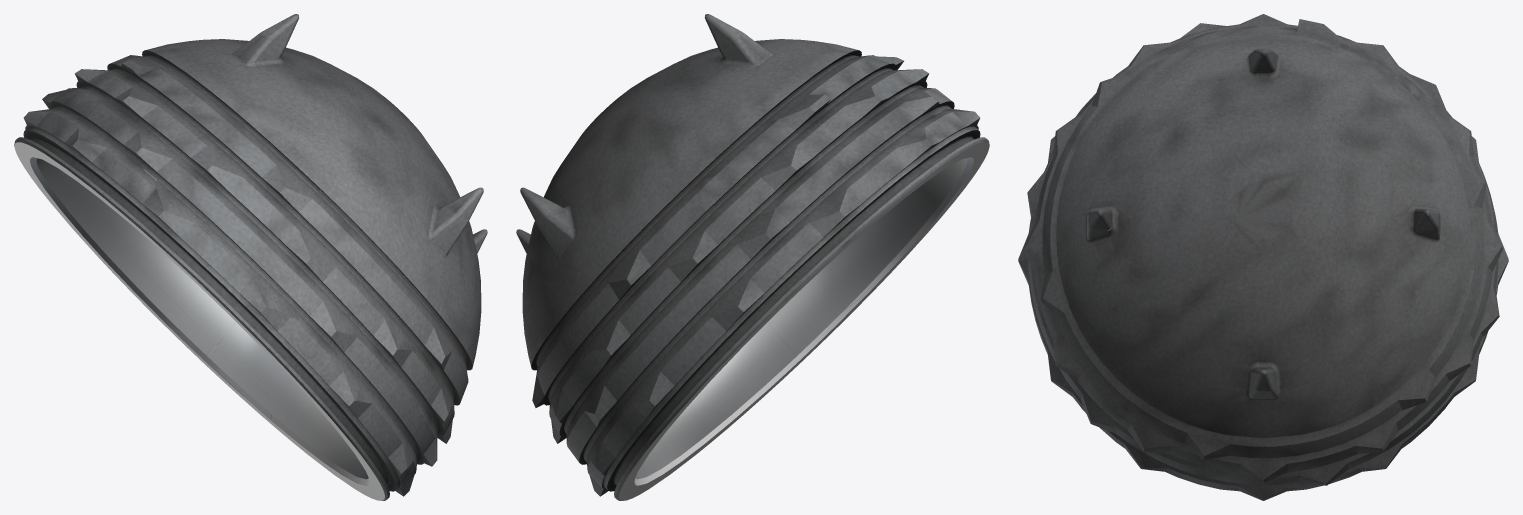
The model's file is Signature-Duo-Cup-1.glb.
3 renders of one model, left to right at view 1: azimuth 30°, elevation 25°; view 2: azimuth 150°, elevation 25°; view 3: azimuth 270°, elevation 25°, orthographic. The views are drawn at different scales.
Visible parts, largest first — view 1: Chamfer017; view 2: Chamfer017; view 3: Chamfer017.
Part boxes in pixels (x1,y1,x2,y2): Chamfer017: [14, 14, 487, 500]; Chamfer017: [516, 14, 989, 500]; Chamfer017: [1018, 14, 1508, 500].
Bounding box in the file's own units: 0.0316 × 0.0337 × 0.0352.
1 material, 1 textured.
